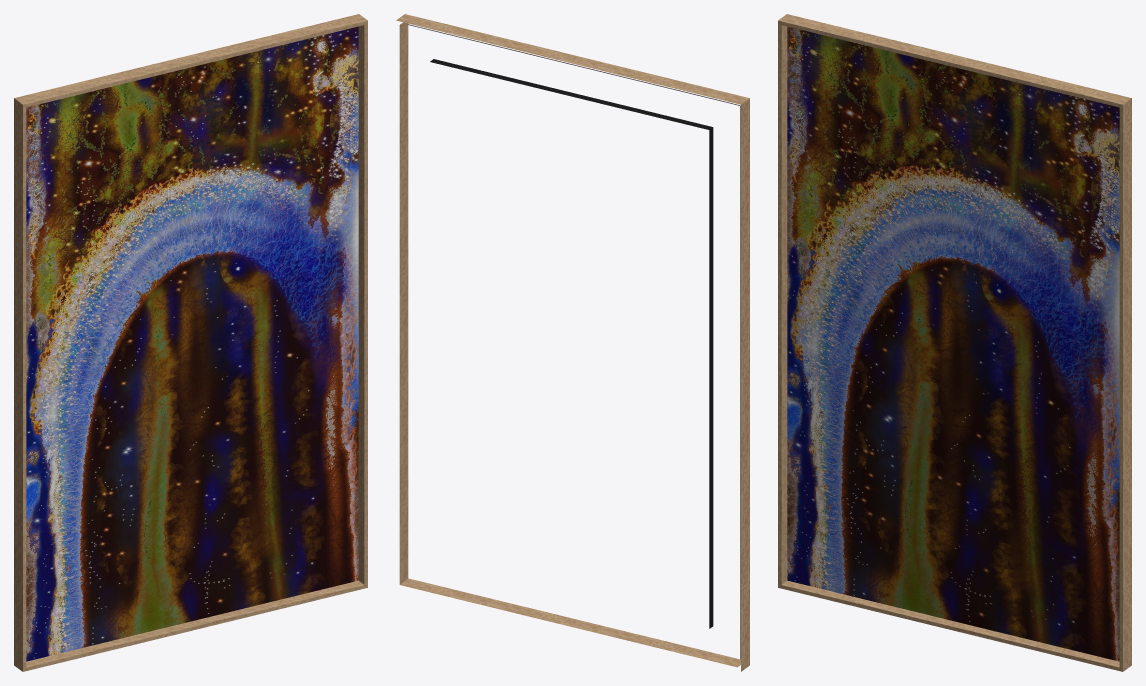
The model's file is os023_grand_caisse-chene.glb.
3 renders of one model, left to right at view 1: azimuth 30°, elevation 25°; view 2: azimuth 150°, elevation 25°; view 3: azimuth 330°, elevation 25°, orthographic.
Visible parts, largest first — view 1: os023_grand_caisse-chene; view 2: os023_grand_caisse-chene; view 3: os023_grand_caisse-chene.
Boxes of the visible parts, x1,y1,x2,y2 form: os023_grand_caisse-chene: (14, 14, 367, 671); os023_grand_caisse-chene: (396, 14, 749, 671); os023_grand_caisse-chene: (778, 14, 1131, 671).
Bounding box in the file's own units: 0.7817 × 1.23 × 0.035.
Materials: 4 (2 with a texture image).
